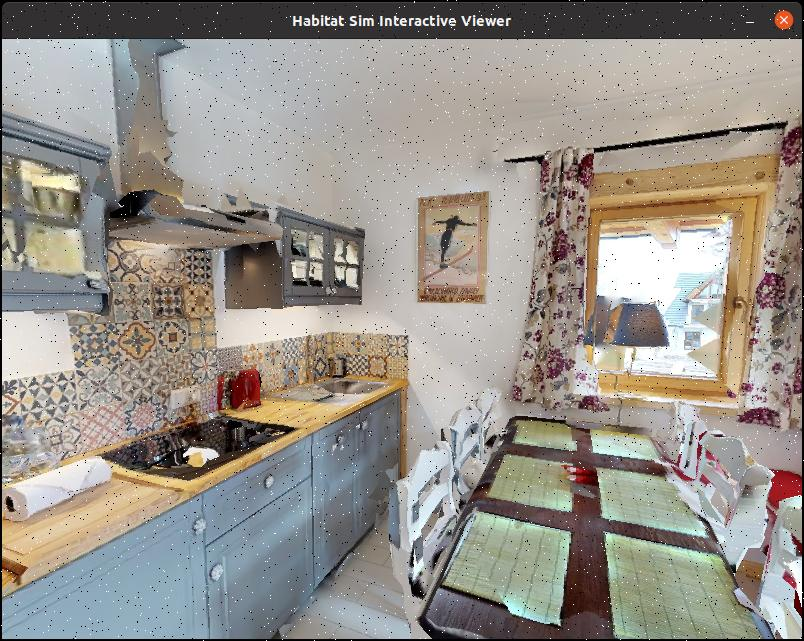sink: (305, 350, 394, 408)
table: (0, 362, 422, 592), (411, 402, 772, 641)
